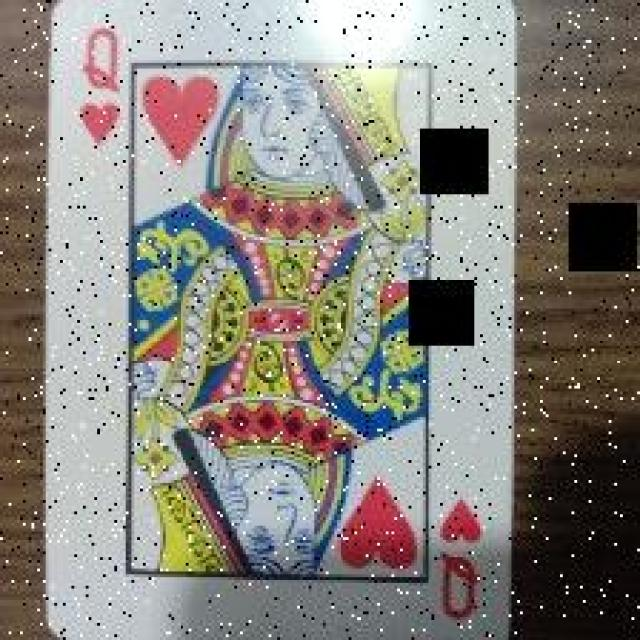Queen of hearts: (48, 0, 514, 639)
